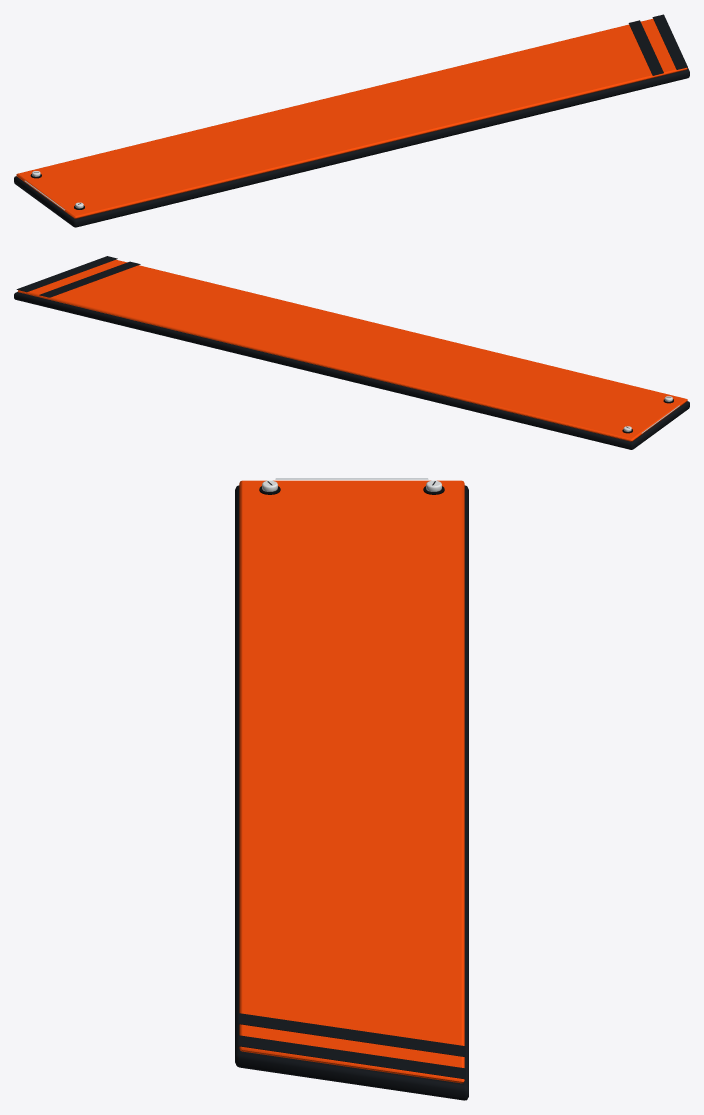
File: action-plate.glb
3 renders of one model, top to bottom at view 1: azimuth 30°, elevation 25°; view 2: azimuth 150°, elevation 25°; view 3: azimuth 270°, elevation 25°, orthographic. The views are drawn at different scales.
Visible parts, largest first — view 1: Action_Orange_Enamel, Action_Steel_Core, Action_Diagonal_Inlay_2, Action_Diagonal_Inlay_1; view 2: Action_Orange_Enamel, Action_Steel_Core, Action_Diagonal_Inlay_2, Action_Diagonal_Inlay_1; view 3: Action_Orange_Enamel, Action_Steel_Core, Action_Diagonal_Inlay_2, Action_Diagonal_Inlay_1.
Boxes of the visible parts, box(x1,y1,x2,y2) form: Action_Orange_Enamel: box(16, 18, 687, 218); Action_Steel_Core: box(14, 67, 689, 227); Action_Diagonal_Inlay_2: box(652, 14, 687, 69); Action_Diagonal_Inlay_1: box(628, 20, 663, 75); Action_Orange_Enamel: box(18, 259, 687, 441); Action_Steel_Core: box(14, 292, 689, 449); Action_Diagonal_Inlay_2: box(16, 256, 117, 292); Action_Diagonal_Inlay_1: box(39, 261, 140, 297); Action_Orange_Enamel: box(239, 480, 464, 1083); Action_Steel_Core: box(235, 485, 468, 1100); Action_Diagonal_Inlay_2: box(238, 1035, 465, 1079); Action_Diagonal_Inlay_1: box(238, 1013, 465, 1057).
Size of the model in its own units: 5.99 by 0.131 by 0.98.
